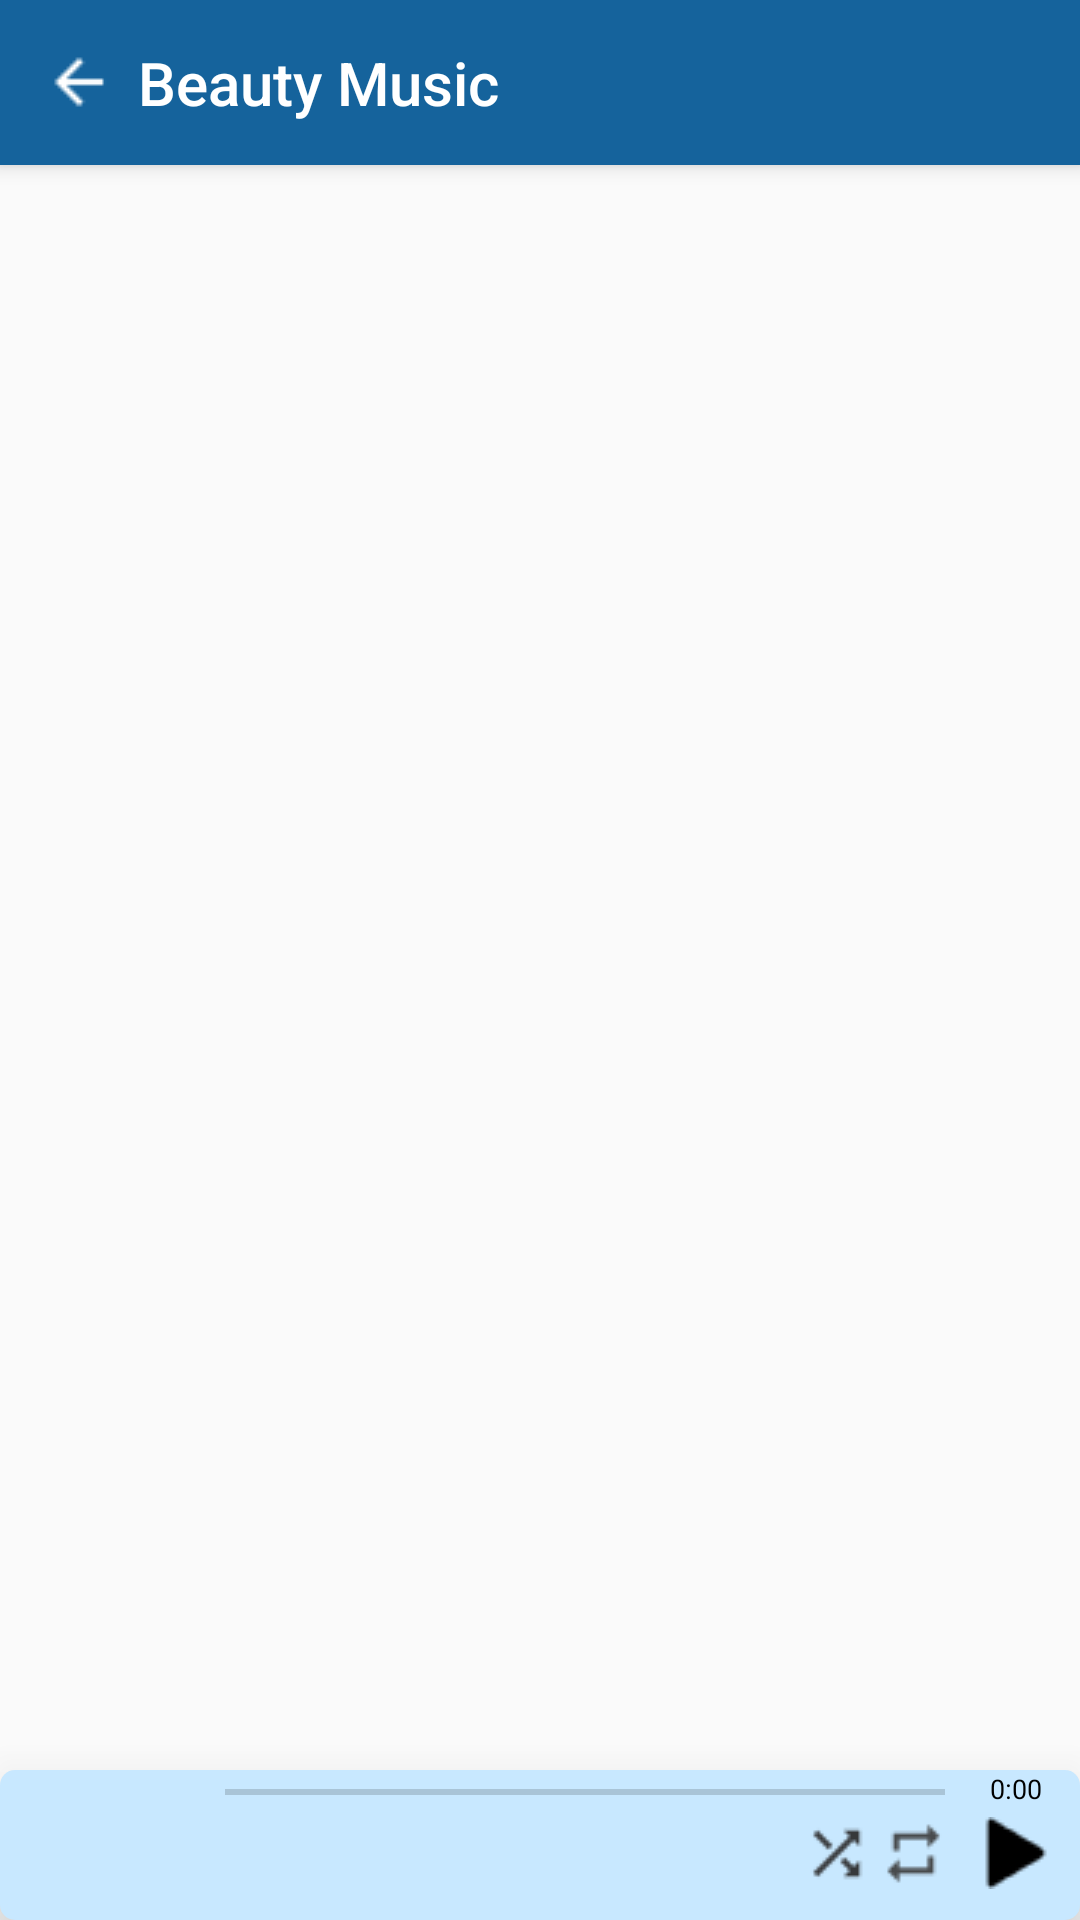

Named icons in this screenshot (1080*1920) and their bounding boxes, (x1, y1, x2, y2):
back: (54, 57, 104, 107)
